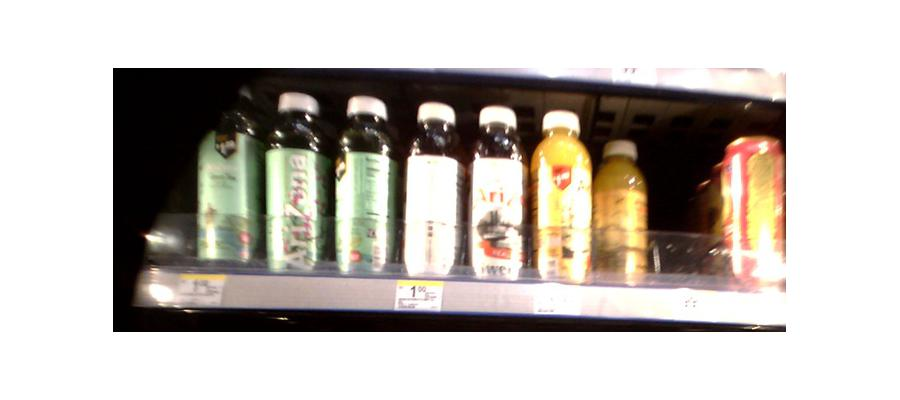bottle: (194, 83, 260, 272), (264, 92, 328, 268), (334, 93, 396, 273), (400, 104, 463, 281), (531, 110, 593, 287), (466, 107, 526, 282), (718, 136, 784, 286), (597, 136, 650, 281)
